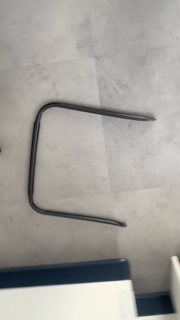C pipe: (28, 99, 160, 230)
